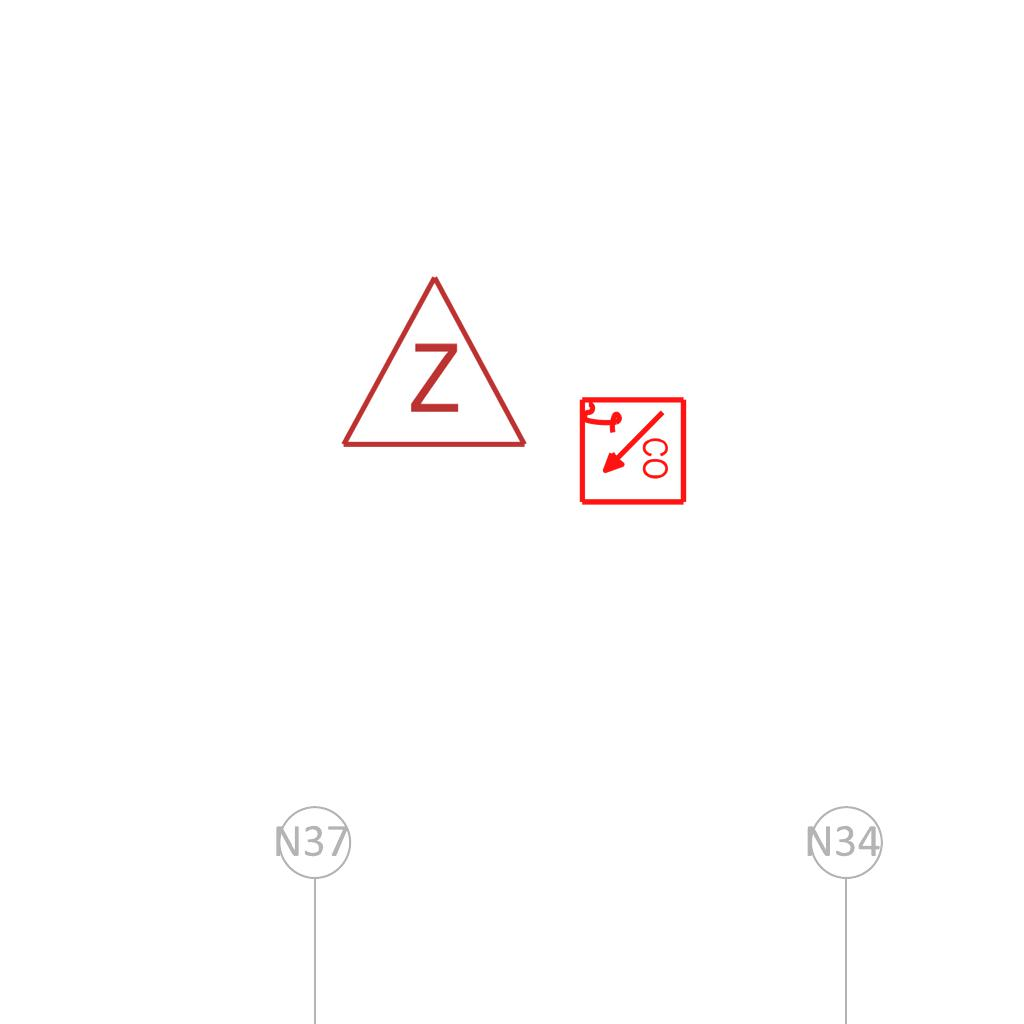ROA_Rauchmelder_optisch_mit_Signalgeber_(Sockelsirene): (575, 395, 688, 508)
Zimmersignalleuchte: (334, 262, 530, 462)
